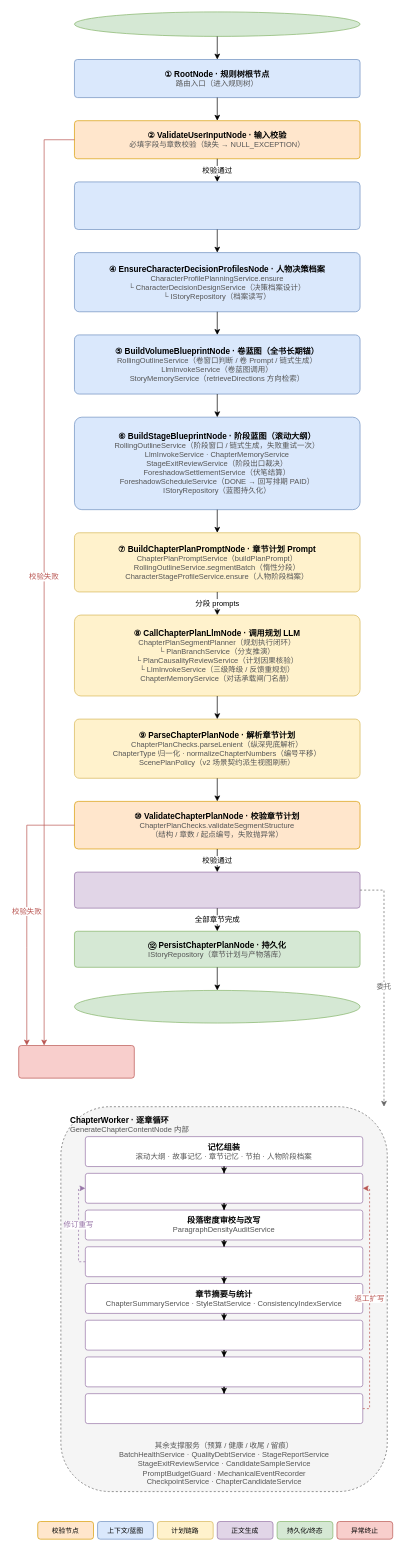
This 405x1551 diagram has some shape labels left out. The box of each missing label's shape, as (x1, y1, x2, y2) in pixels:
LLM 生成正文草稿 LlmInvokeService · WriterSampleService（范文检索）: (85, 1173, 363, 1203)
③ BuildStoryContextNode · 故事上下文 组装故事圣经：标题/类型/世界观/视角/基调/主人公 人物档案与续写全局总章数一并渲染: (74, 181, 360, 230)
⑪ GenerateChapterContentNode · 逐章生成正文 委托 ChapterWorker.generateAll（子流程见下方）: (74, 871, 360, 908)
伏笔结算与排期 ForeshadowSettlementService · ForeshadowScheduleService: (85, 1356, 363, 1387)
台账裁决 LedgerAdjudicateService: (85, 1320, 363, 1350)
开始 · StoryGenerateService 发起装配: (74, 11, 360, 36)
异常终止 校验不通过 · 抛出异常: (18, 1045, 134, 1078)
终态 · defaultStrategyHandler 返回 StoryGenerateResultAggregate: (74, 990, 360, 1023)
结局审计 · FinaleReview 不通过且返工额度未满（MAX_FINALE_REWORK）→ 返工扩写: (85, 1393, 363, 1424)
质量门审校修订 QualityGate · QualityReviewService · 四级降级: (85, 1246, 363, 1277)
